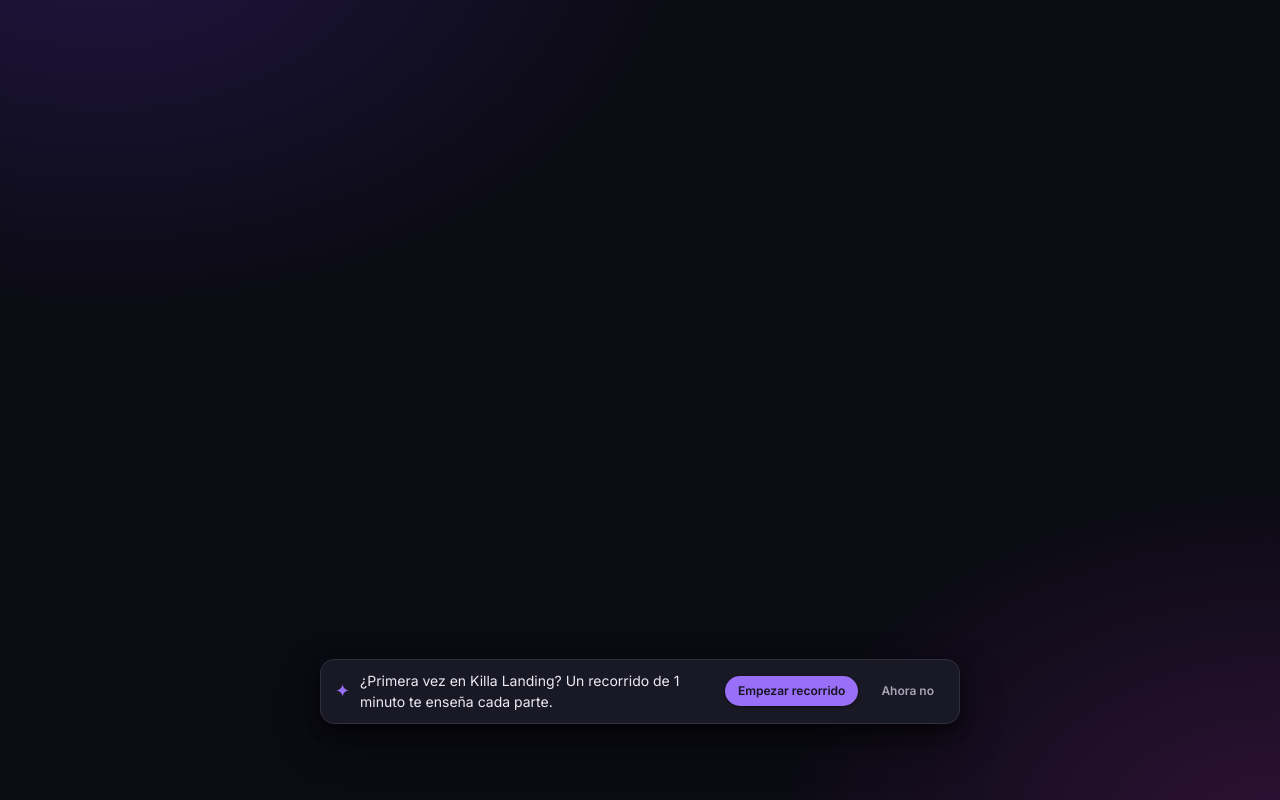
Tour › invites first-time visitors and walks through every step
Later steps or results of the test are not shown.
Click the button "Empezar recorrido".
click(792, 691)  # box [725,676,858,706]
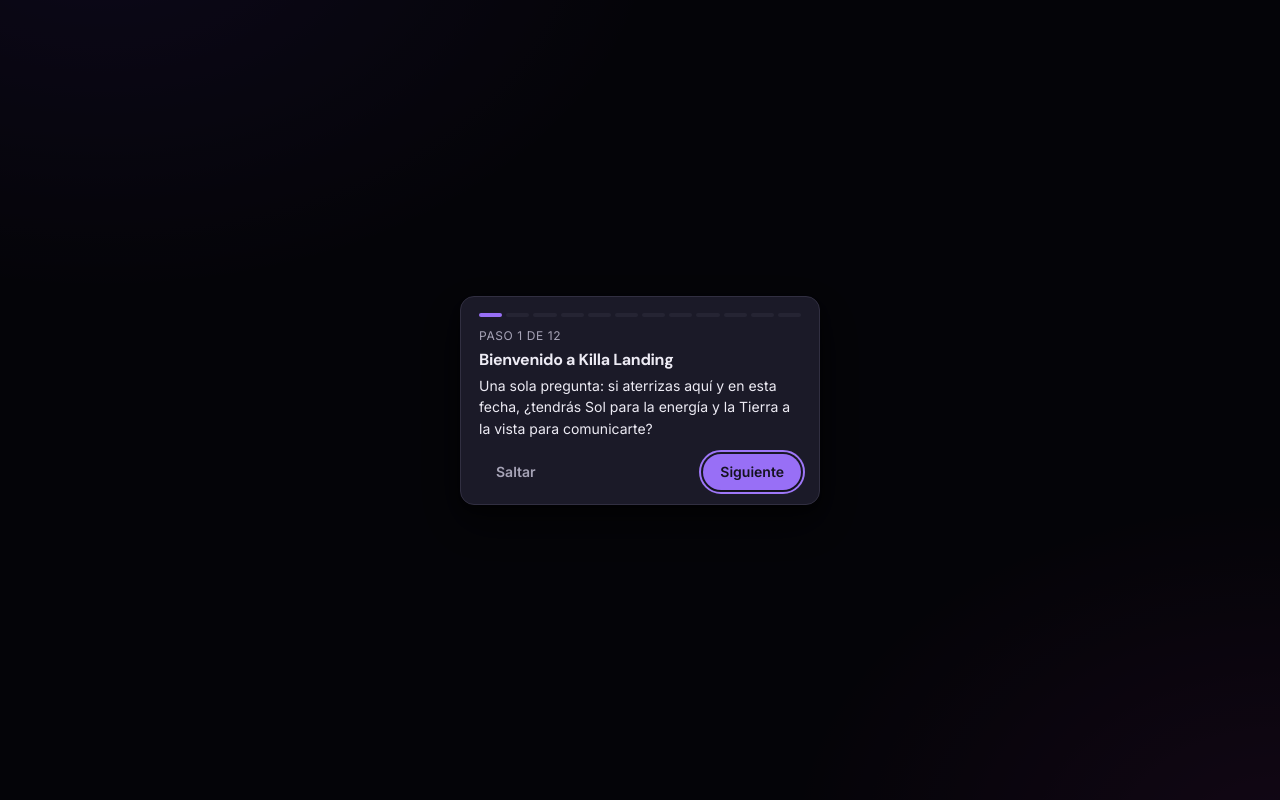
Expected: the text "Primera vez" is gone
Expected: the dialog named "Recorrido guiado" shows "Bienvenido a Killa Landing", [479,349,673,370]
